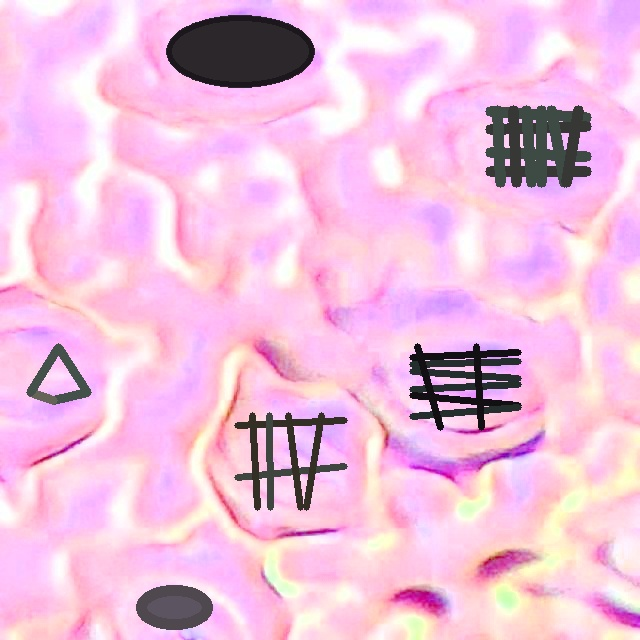close: (167, 16, 313, 86), (486, 106, 590, 187), (26, 343, 91, 404)
open: (234, 412, 347, 510), (409, 343, 521, 430), (136, 585, 212, 629)
